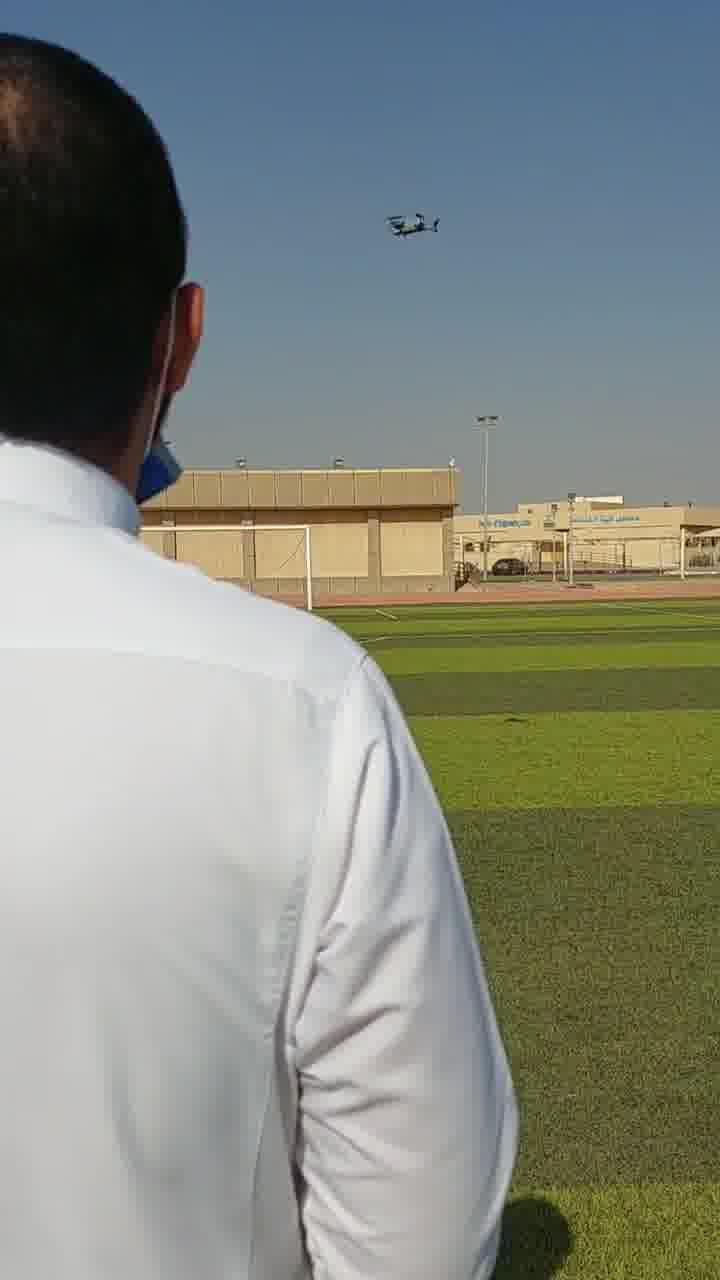drone: (376, 205, 446, 246)
